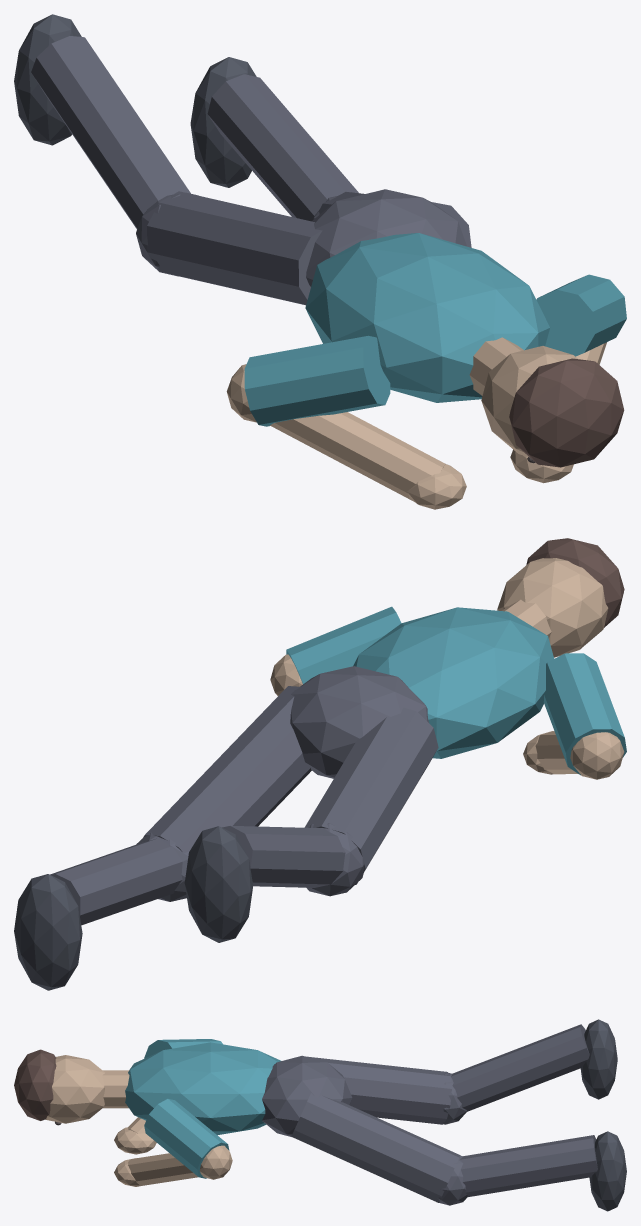
3 views of the same model, one above another, from view 1: azimuth 30°, elevation 25°; view 2: azimuth 150°, elevation 25°; view 3: azimuth 270°, elevation 25° (orthographic). The views are drawn at different scales.
Visible parts, largest first — view 1: world; view 2: world; view 3: world.
Part boxes in pixels (bbox=[...]): world: bbox=[14, 14, 626, 509]; world: bbox=[14, 538, 626, 990]; world: bbox=[14, 1019, 626, 1211].
Size of the model in its own units: 0.93 by 0.5125 by 2.07.
